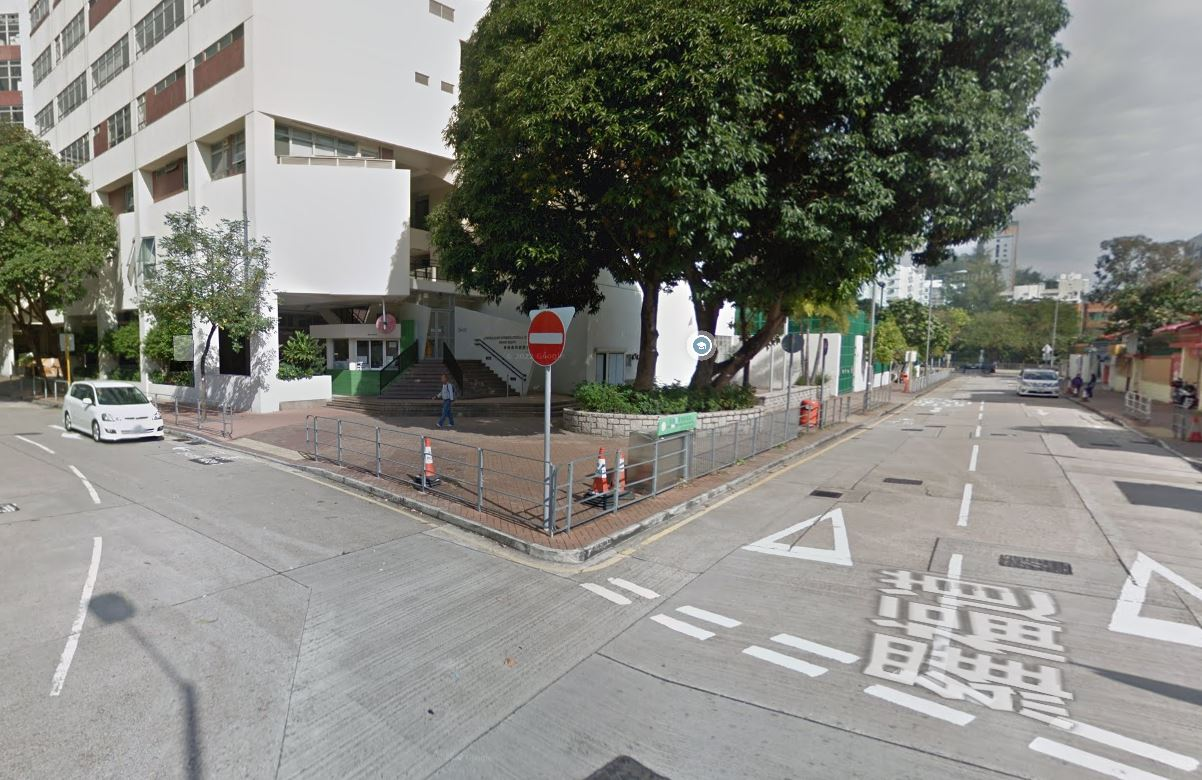No Enter: (526, 311, 568, 364)
